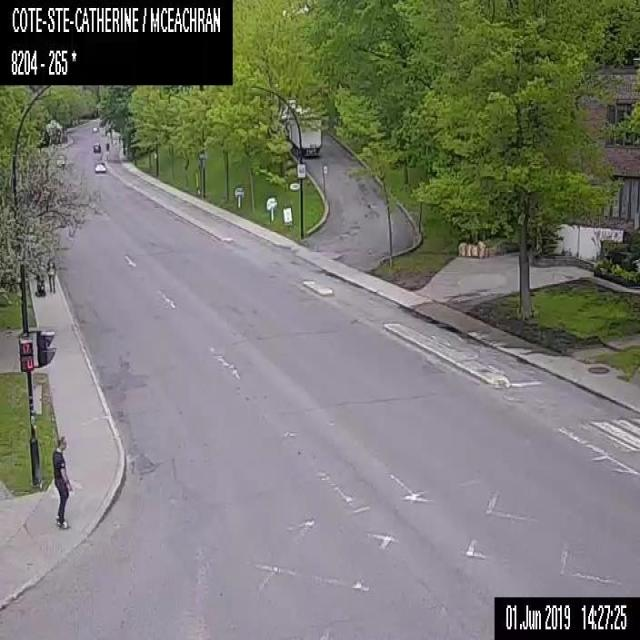pedestrian: (51, 432, 72, 528), (48, 258, 56, 293)
vehicle: (281, 98, 321, 156), (94, 160, 106, 172), (93, 142, 100, 152), (91, 125, 98, 132)
